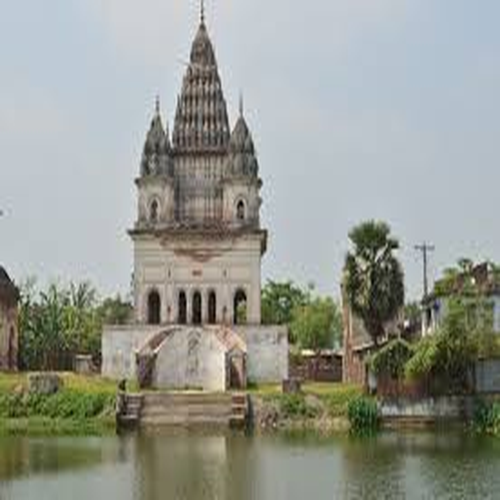Temple: (114, 11, 284, 396)
